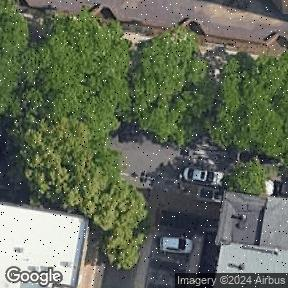vegetation: (224, 156, 269, 195)
